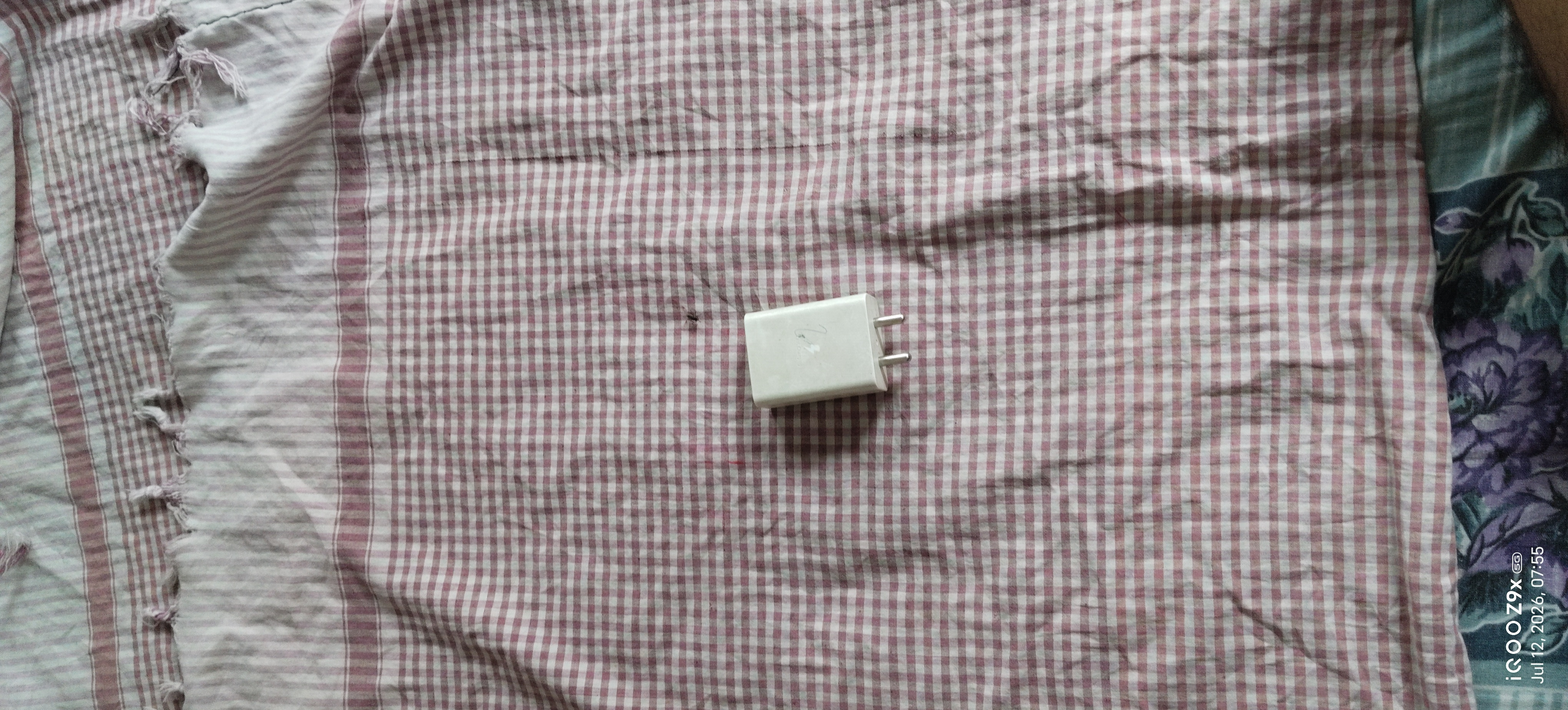charger: (722, 277, 926, 433)
